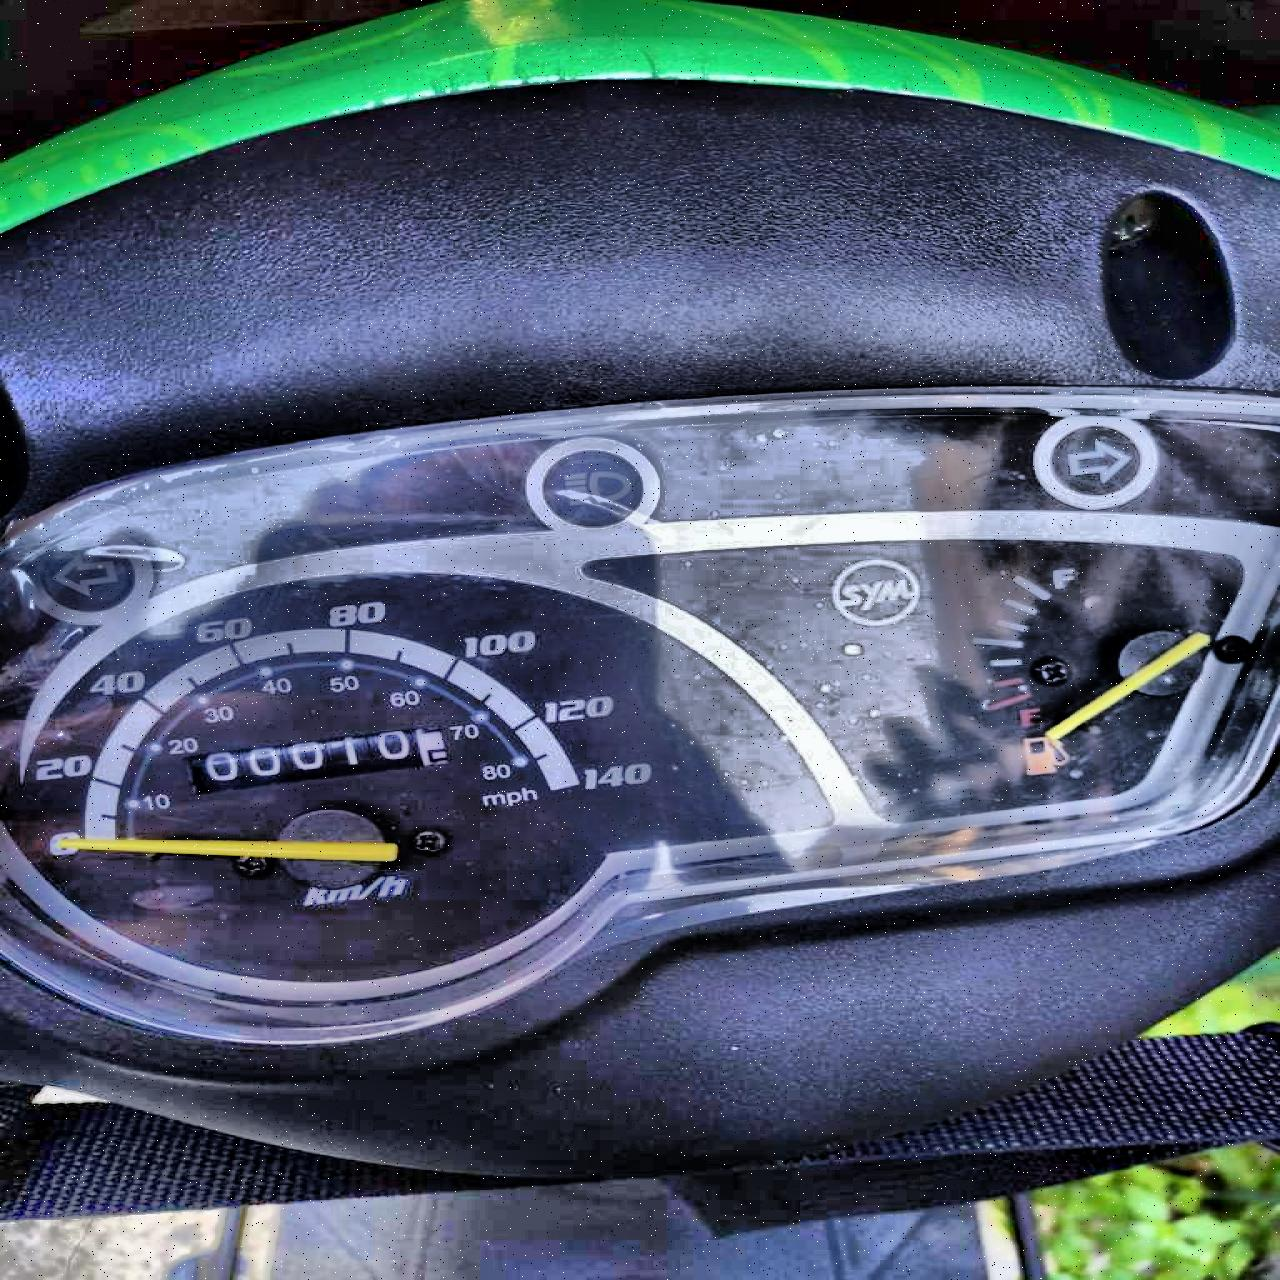0: (286, 737, 321, 769), (203, 749, 237, 779), (375, 728, 407, 758), (247, 745, 278, 776), (181, 736, 197, 753)
1: (341, 735, 356, 765)
5: (424, 747, 448, 769)
odometer: (178, 722, 449, 797)
